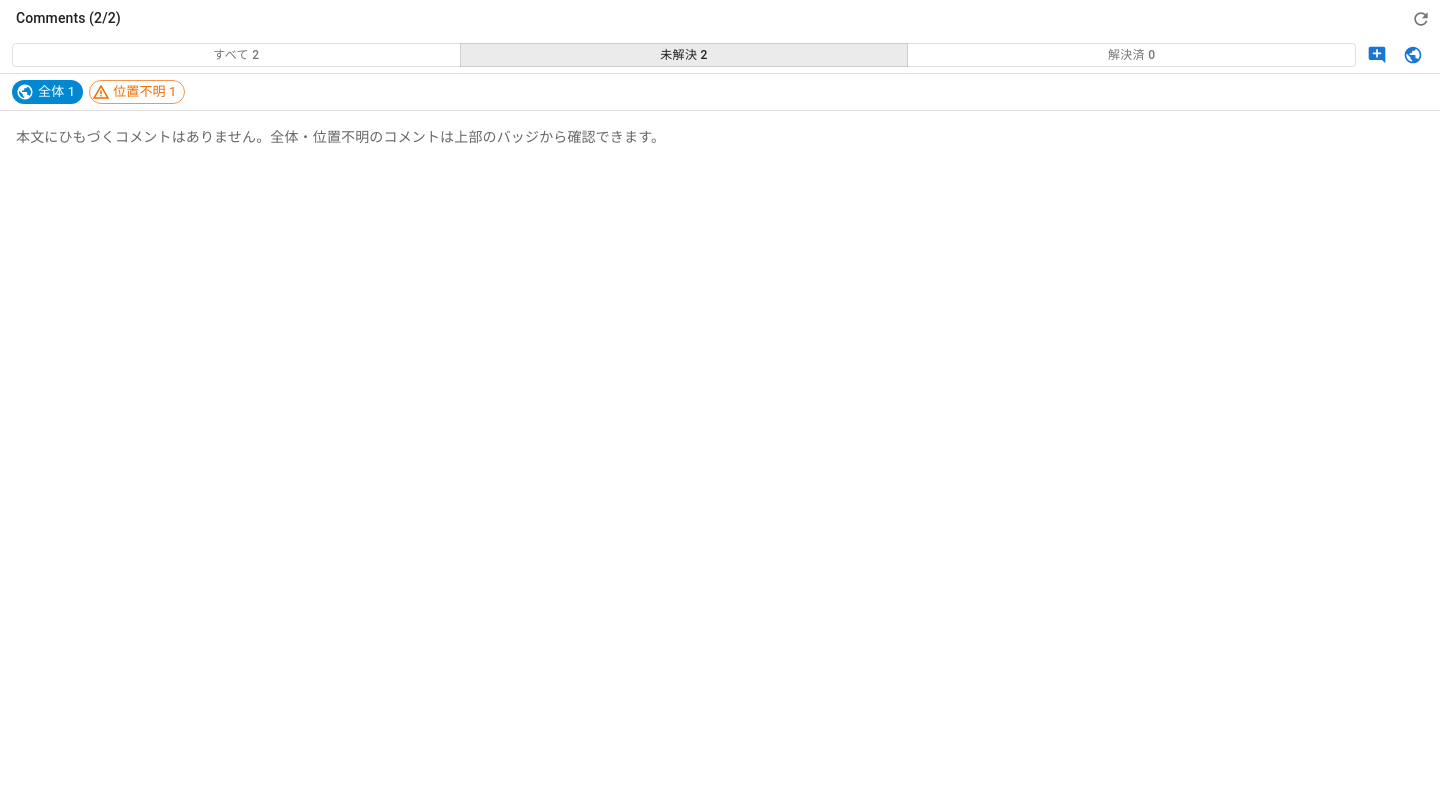
CommentSidePane › global/orphan badges (#316) › shows tabs only when both global and orphan comments exist
Click the button with test id "global-comment-badge" at {"x": 48, "y": 92}, box [12,80,83,104]
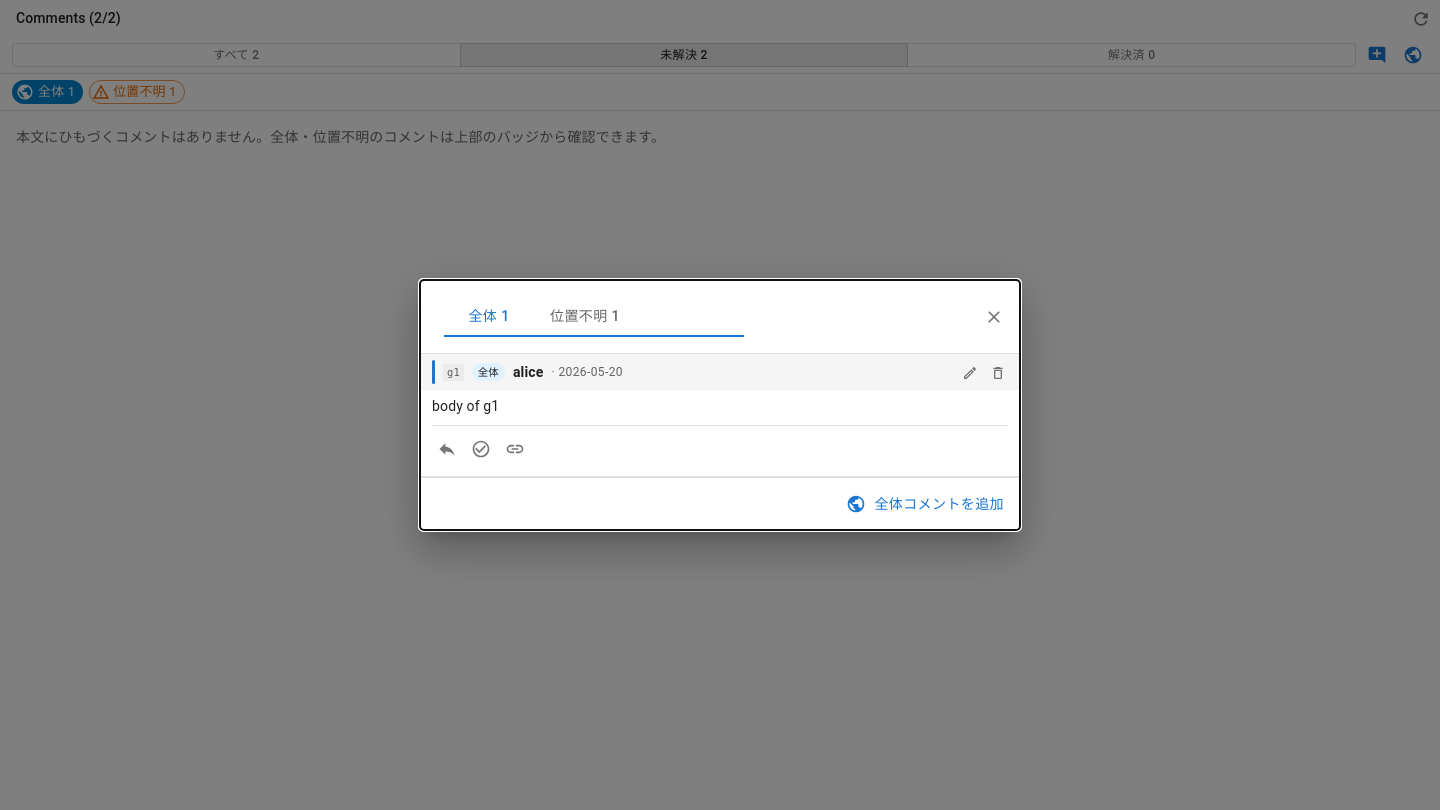
Expected: the tab with test id "global-comments-tab-global" is shown, [444,296,534,338]
Expected: the tab with test id "global-comments-tab-orphan" is shown, [534,296,636,338]
